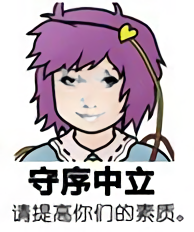dragon: (59, 74, 119, 120)
